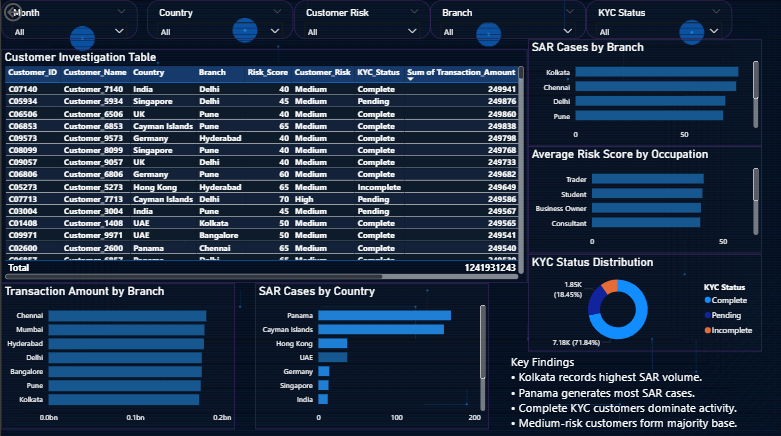

The page's visual inventory and layout, read from the dashboard file:
{"tool":"powerbi","page":{"name":"Risk Investigation","canvas":[1280,720],"ordinal":1},"visuals":[{"type":"slicer","fields":{"Values":["aml_enriched.Month"]},"box":[0,0,224,64],"z":0},{"type":"slicer","fields":{"Values":["aml_enriched.Branch"]},"box":[704,0,256,64],"z":1000},{"type":"slicer","fields":{"Values":["aml_enriched.Customer_Risk"]},"box":[480,0,224,64],"z":2000},{"type":"slicer","fields":{"Values":["aml_enriched.Country"]},"box":[240,0,240,64],"z":3000},{"type":"slicer","fields":{"Values":["aml_enriched.KYC_Status"]},"box":[960,0,240,64],"z":4000},{"type":"tableEx","title":"Customer Investigation Table","fields":{"Values":["aml_enriched.Customer_ID","aml_enriched.Customer_Name","aml_enriched.Country","aml_enriched.Branch","aml_enriched.Risk_Score","aml_enriched.Customer_Risk","aml_enriched.KYC_Status","Sum(aml_enriched.Transaction_Amount)","aml_enriched.SAR_Flag","aml_enriched.Alert_Type","aml_enriched.Predicted_SAR"]},"box":[0,80,864,384],"z":5000},{"type":"actionButton","box":[0,0,100,40],"z":6000},{"type":"clusteredBarChart","title":"Transaction Amount by Branch","fields":{"Y":["Sum(aml_enriched.Transaction_Amount)"],"Category":["aml_enriched.Branch"]},"box":[0,464,384,240],"z":7000},{"type":"donutChart","title":"KYC Status Distribution","fields":{"Category":["aml_enriched.KYC_Status"],"Y":["CountNonNull(aml_enriched.Transaction_ID)"]},"box":[864,416,384,160],"z":8000},{"type":"clusteredBarChart","title":"SAR Cases by Country","fields":{"Category":["aml_enriched.Country"],"Y":["Sum(aml_enriched.SAR_Flag)"]},"box":[416,464,384,240],"z":9000},{"type":"clusteredBarChart","title":"SAR Cases by Branch","fields":{"Category":["aml_enriched.Branch"],"Y":["Sum(aml_enriched.SAR_Flag)"]},"box":[864,64,384,176],"z":10000},{"type":"clusteredBarChart","title":"Average Risk Score by Occupation","fields":{"Category":["aml_enriched.Occupation"],"Y":["Avg(aml_enriched.Risk_Score)"]},"box":[864,240,384,176],"z":11000},{"type":"textbox","box":[832,576,448,144],"z":11001}]}

Visuals, with their boxes in screenshot pixels (x1, y1, x2, y2), scaled from the page's 1280x720 canvas onto the 781x436 screenshot:
slicer - aml_enriched.Month: left=0, top=0, right=137, bottom=39
slicer - aml_enriched.Branch: left=430, top=0, right=586, bottom=39
slicer - aml_enriched.Customer_Risk: left=293, top=0, right=430, bottom=39
slicer - aml_enriched.Country: left=146, top=0, right=293, bottom=39
slicer - aml_enriched.KYC_Status: left=586, top=0, right=732, bottom=39
"Customer Investigation Table" tableEx: left=0, top=48, right=527, bottom=281
actionButton: left=0, top=0, right=61, bottom=24
"Transaction Amount by Branch" clusteredBarChart: left=0, top=281, right=234, bottom=426
"KYC Status Distribution" donutChart: left=527, top=252, right=761, bottom=349
"SAR Cases by Country" clusteredBarChart: left=254, top=281, right=488, bottom=426
"SAR Cases by Branch" clusteredBarChart: left=527, top=39, right=761, bottom=145
"Average Risk Score by Occupation" clusteredBarChart: left=527, top=145, right=761, bottom=252
textbox: left=508, top=349, right=780, bottom=435
